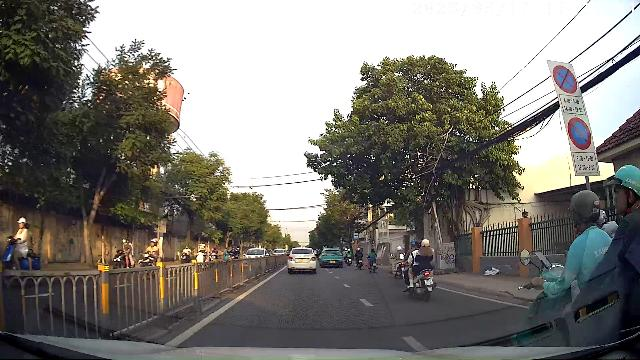130-cam-dung-va-do-xe: (552, 65, 578, 94)
131a-cam-do-xe: (567, 117, 592, 150)
